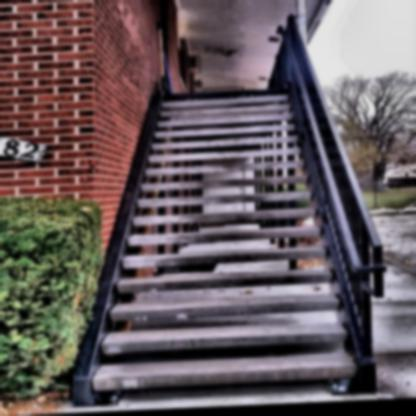stair: (94, 56, 359, 402)
